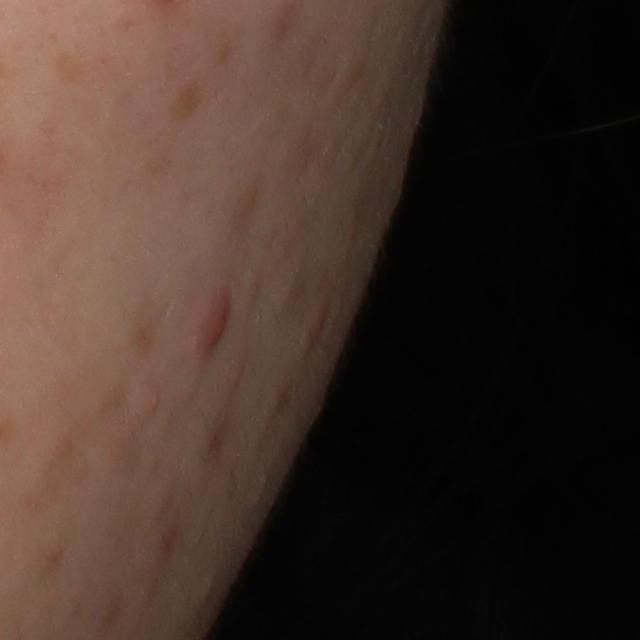papule: (189, 284, 238, 357), (305, 302, 329, 342)
